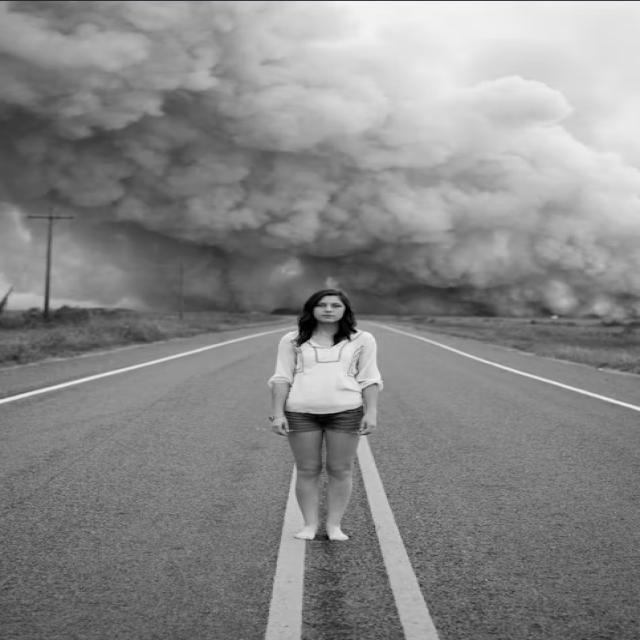Edited images: (250, 273, 422, 565)
